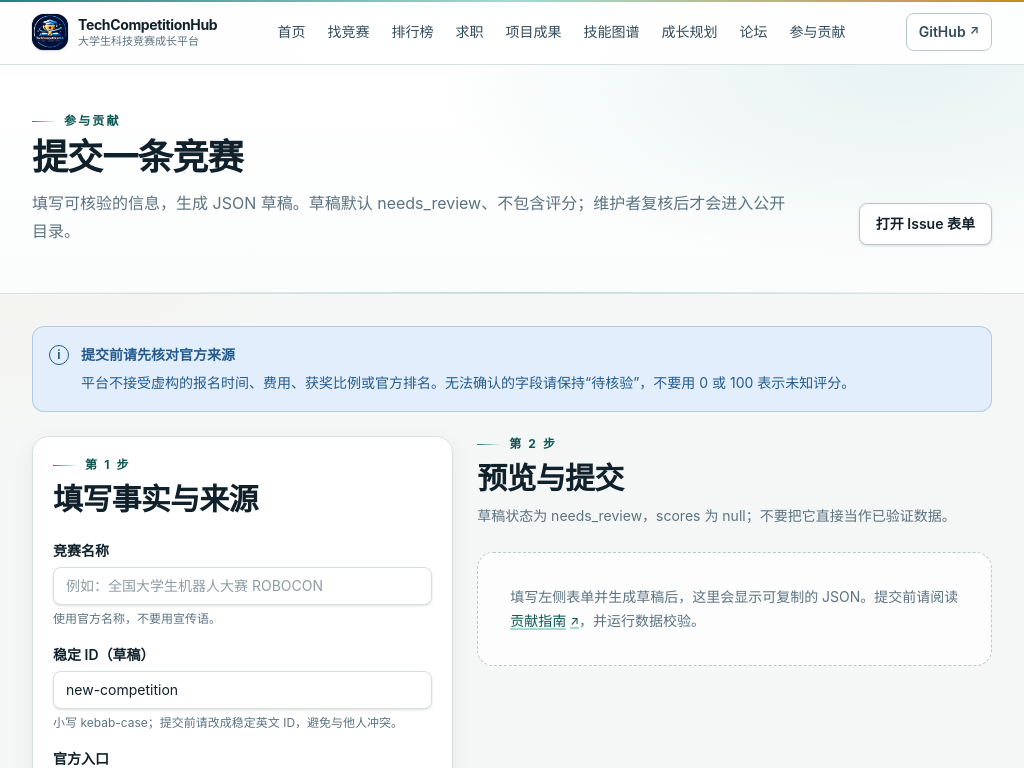
Test: 核心页面 › 用户可以生成竞赛 JSON 草稿并看到 needs_review
Expected: the heading "提交一条竞赛" is shown, [32,135,243,179]
Type "测试竞赛" into the field labelled "竞赛名称". click: x=243, y=586
box: [53,567,432,605]
(page scrolled)
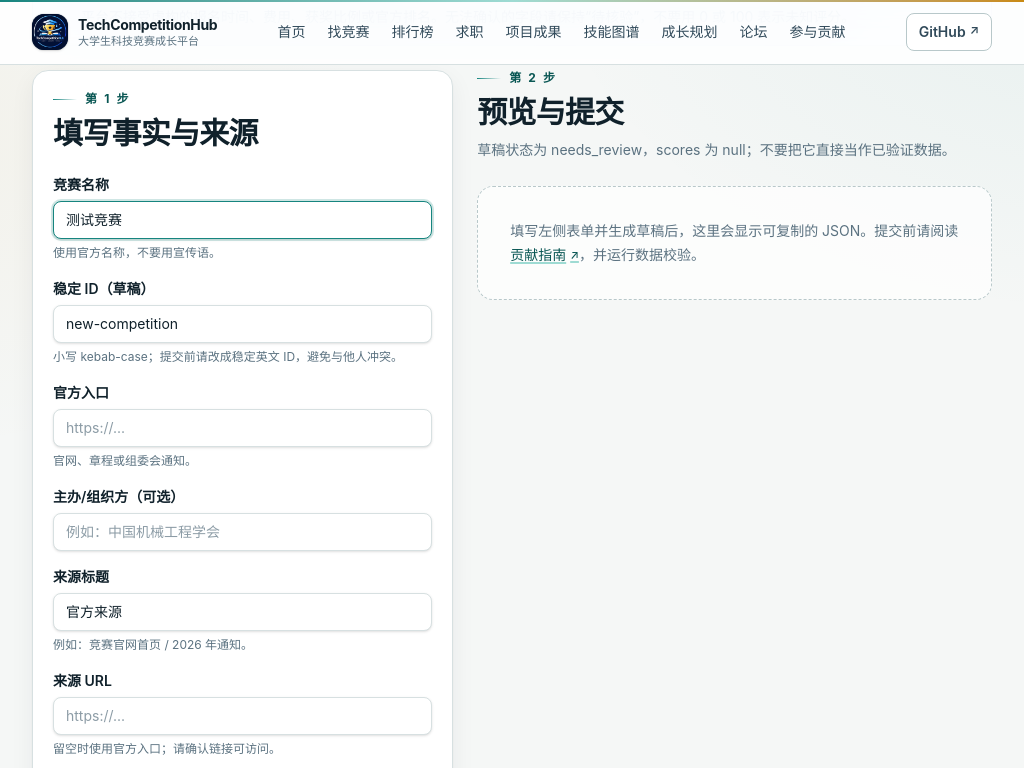
Type "https://example.org/contest" into the field labelled "官方入口". click: x=243, y=428
box: [53,409,432,447]
(page scrolled)
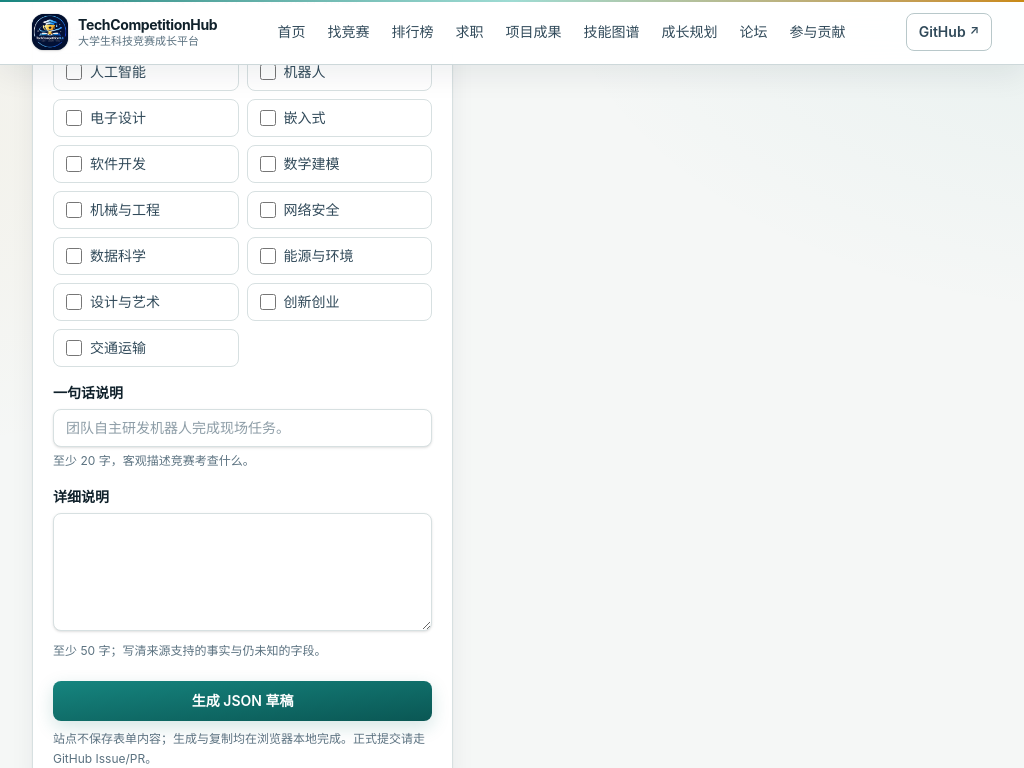
Type "这是一个用于测试的竞赛说明，长度足够通过校验。" into the field labelled "一句话说明". click: x=243, y=428
box: [53,409,432,447]
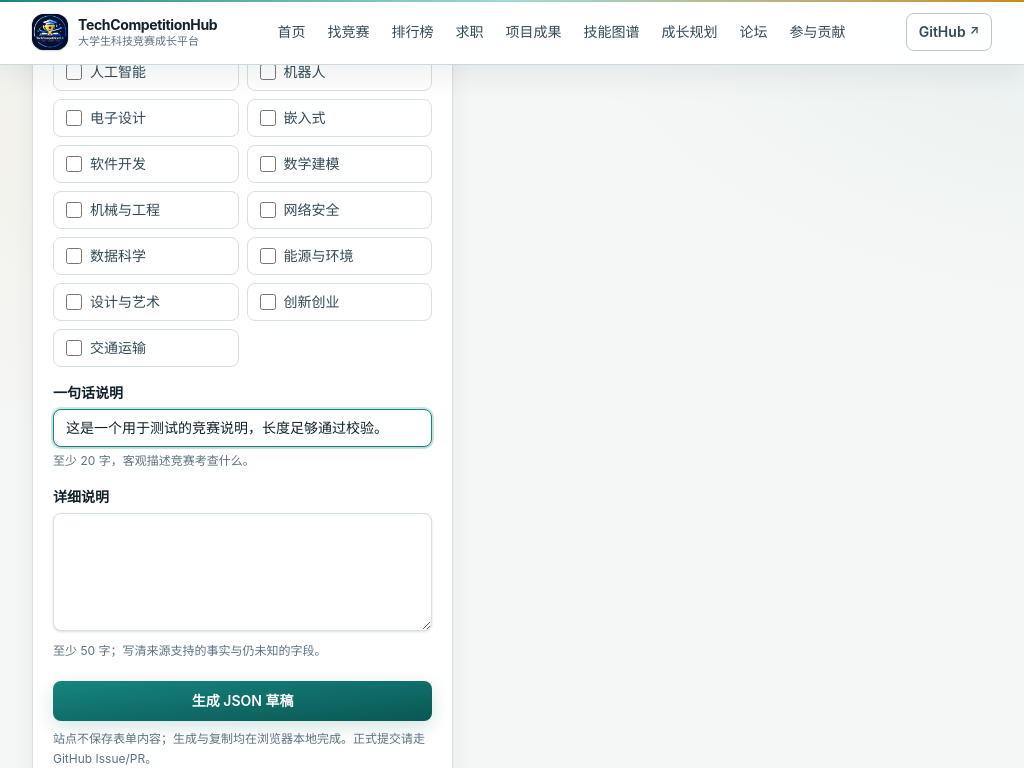
Type "这是一个用于测试竞赛草稿生成流程的详细说明，包含来源、领域与待核验字段；内容需要超过五十个字符，才能通过前端校验并生成 JSON 草稿。" into the text box labelled "详细说明". click: x=243, y=572
box: [53,513,432,631]
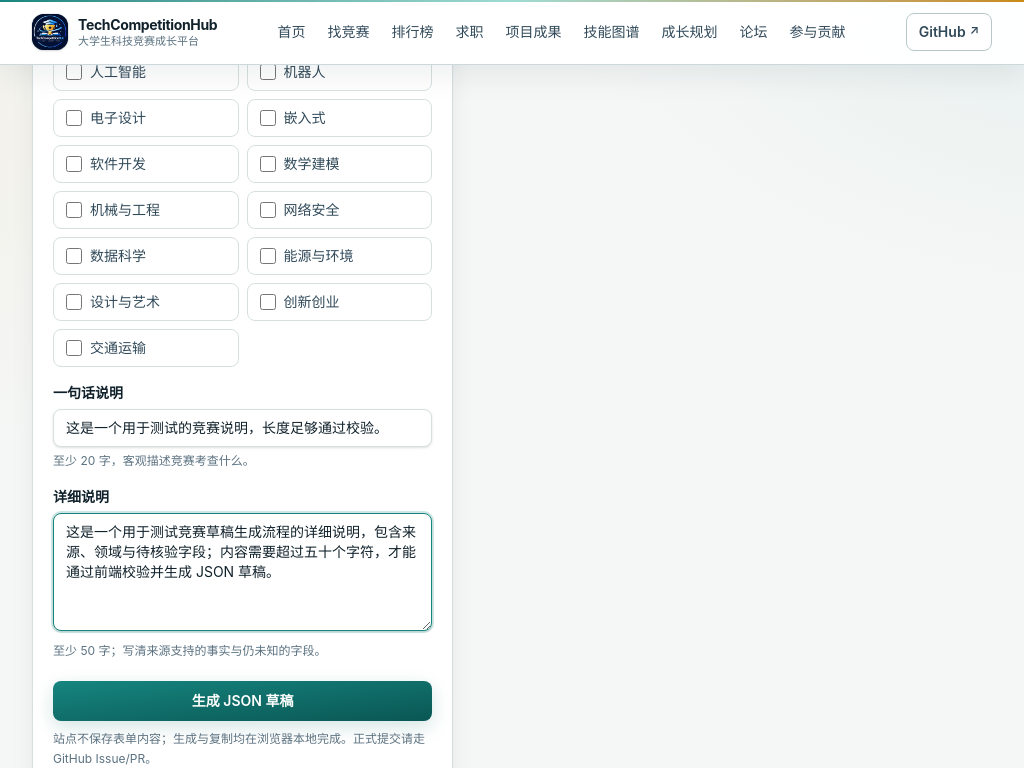
Click the checkbox labelled "机器人". click: x=268, y=72
box: [260,64,276,80]
(page scrolled)
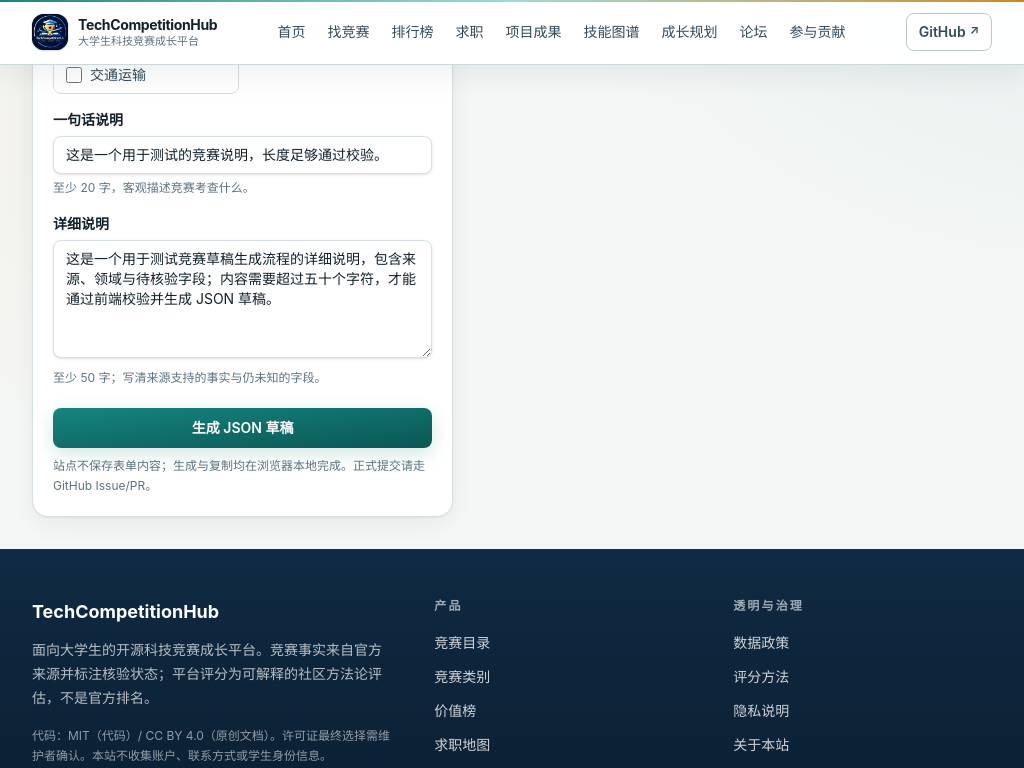
Click the button "生成 JSON 草稿". click: x=243, y=428
box: [53,408,432,448]
(page scrolled)
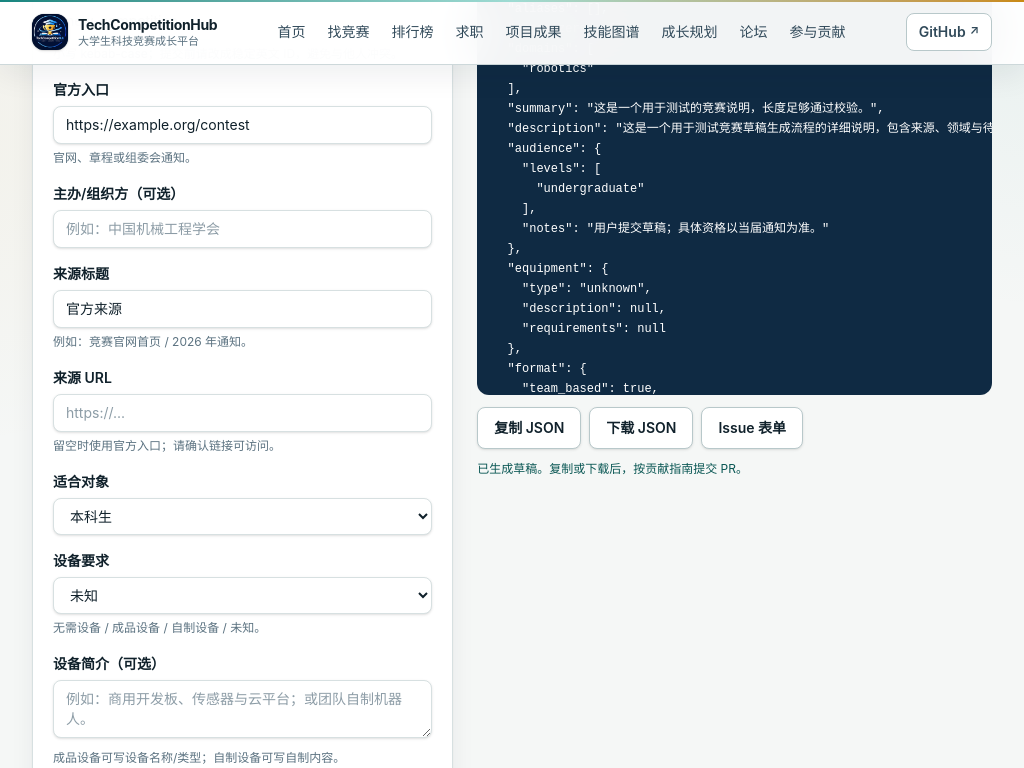
Expected: the button "复制 JSON" is shown, [477,407,581,449]
